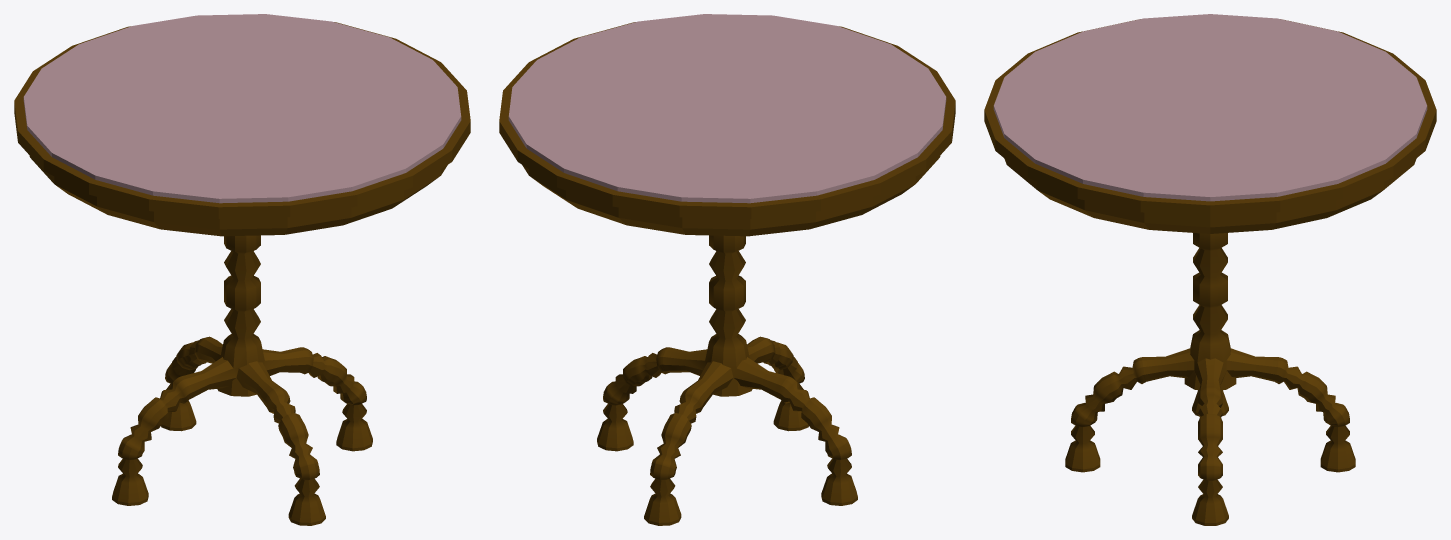
Rendered from end_table.fbx.
3 renders of one model, left to right at view 1: azimuth 30°, elevation 25°; view 2: azimuth 150°, elevation 25°; view 3: azimuth 270°, elevation 25°, orthographic.
Parts seen in each view (by area): view 1: topper, wood; view 2: topper, wood; view 3: topper, wood.
Part boxes in pixels (bbox=[...]): topper: bbox=[23, 14, 461, 203]; wood: bbox=[14, 22, 470, 525]; topper: bbox=[508, 14, 946, 203]; wood: bbox=[499, 22, 955, 525]; topper: bbox=[993, 14, 1427, 201]; wood: bbox=[984, 20, 1436, 525].
Size of the model in its own units: 1.37 by 1.2 by 1.37.
